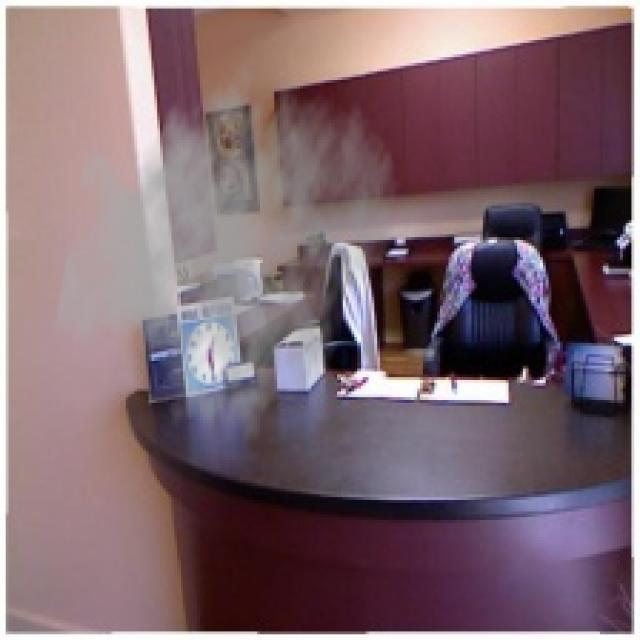smoke: (51, 40, 400, 446)
